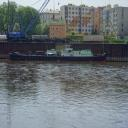tugboat: (9, 45, 109, 65)
